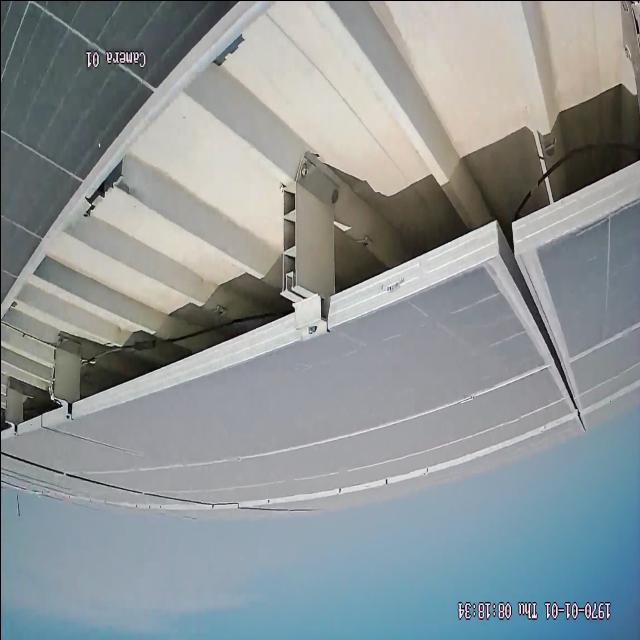interior panel: (490, 263, 582, 413)
outher panel: (0, 0, 640, 442)
